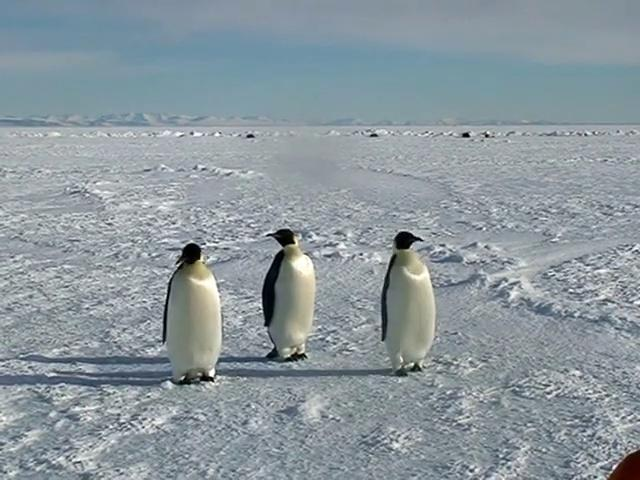animal: (382, 232, 437, 377)
